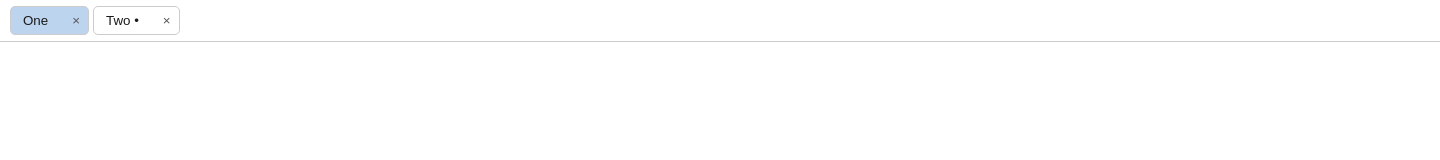
Test case: Escape while renaming leaves the original name unchanged
Double-click the tab "One" at {"x": 36, "y": 20}, box x1=11 y1=7 x2=60 y2=34
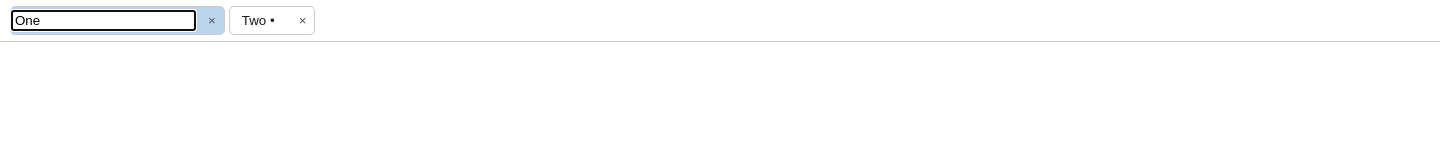
Replace the text in the field with "Discard this" at {"x": 104, "y": 20}, box x1=11 y1=10 x2=196 y2=31
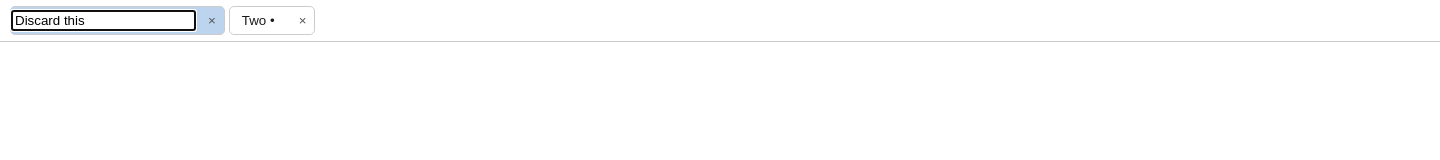
Press Escape in the field, box x1=11 y1=10 x2=196 y2=31
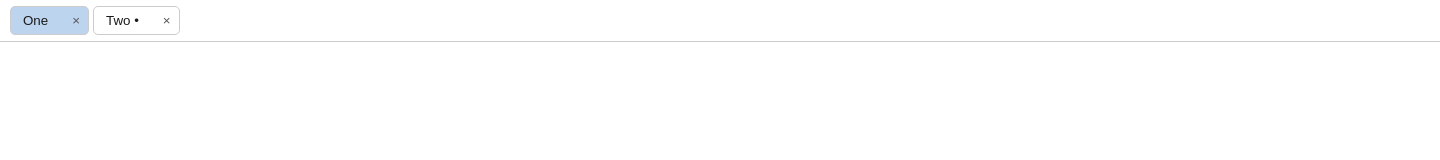
Now the tab "One" is shown, box x1=11 y1=7 x2=60 y2=34
